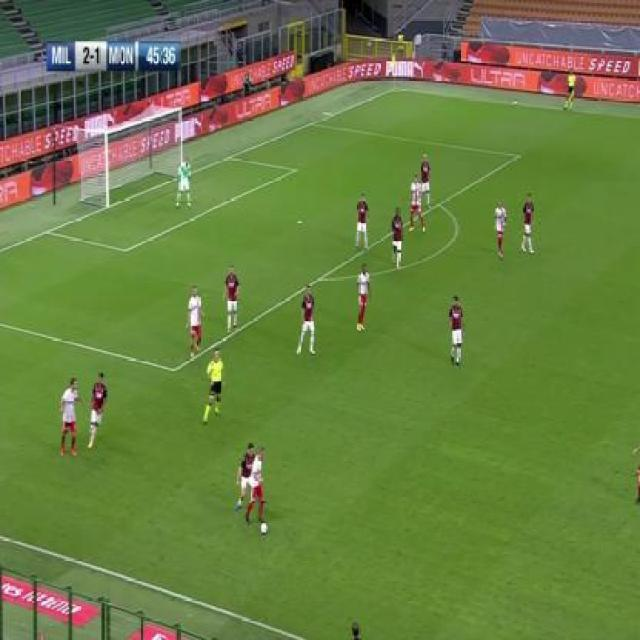ball: (260, 521, 269, 538)
player: (58, 376, 83, 462), (200, 347, 226, 426), (85, 370, 110, 452), (245, 448, 268, 524), (295, 286, 318, 357), (233, 442, 255, 513), (184, 284, 203, 363), (447, 294, 466, 368), (223, 263, 242, 337), (405, 176, 427, 233), (353, 191, 372, 254), (355, 263, 371, 332), (174, 156, 194, 210), (519, 192, 535, 254), (390, 205, 404, 273), (494, 200, 508, 263), (419, 151, 433, 207), (562, 68, 576, 113)
